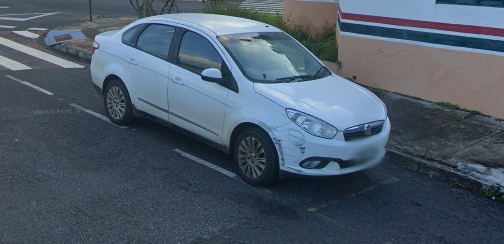car: (86, 6, 397, 191)
